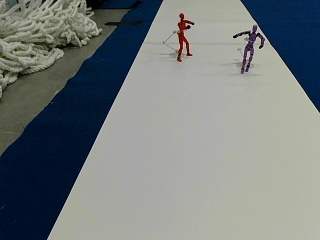pedestrian: (233, 24, 264, 71), (176, 12, 194, 61)
